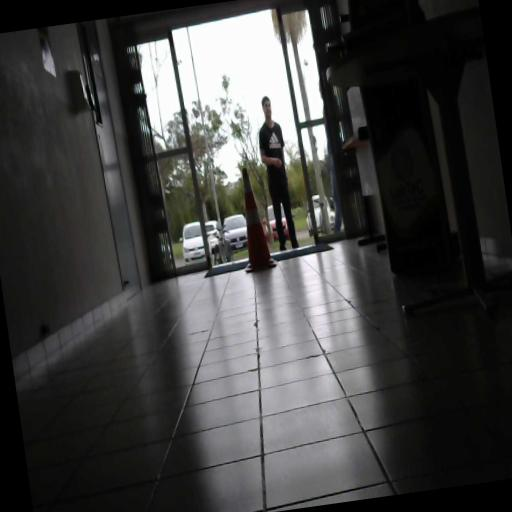cone: (232, 163, 278, 276)
